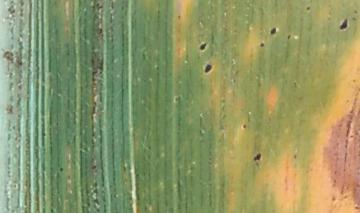tarspot: (2, 49, 15, 66), (337, 16, 350, 32), (202, 63, 213, 75), (197, 42, 209, 52), (252, 151, 262, 162), (268, 25, 278, 36), (304, 4, 312, 13), (285, 33, 293, 41), (258, 41, 265, 49), (352, 8, 359, 16), (240, 122, 247, 130), (89, 164, 97, 171), (175, 14, 182, 21), (58, 166, 65, 173)
